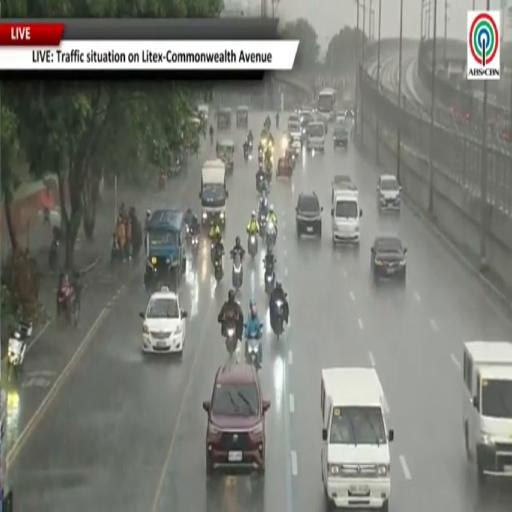bus: (317, 89, 336, 121)
car: (203, 364, 270, 474), (140, 287, 187, 355), (371, 234, 407, 282), (296, 192, 323, 237), (377, 174, 401, 211), (333, 120, 348, 150), (333, 174, 354, 185)
motorcycle: (7, 322, 32, 380), (245, 324, 263, 371), (57, 290, 78, 328), (226, 318, 238, 358), (274, 299, 284, 339), (111, 233, 124, 263), (233, 252, 242, 291), (49, 237, 59, 270), (265, 263, 275, 294), (187, 227, 199, 251), (266, 222, 276, 249), (248, 234, 257, 259), (214, 256, 223, 281), (256, 173, 266, 194), (259, 212, 266, 236), (265, 158, 272, 181), (244, 144, 250, 163), (159, 173, 166, 189), (210, 240, 215, 262), (258, 150, 263, 167), (248, 139, 253, 153), (210, 132, 213, 146)
truck: (321, 367, 393, 511), (463, 342, 511, 485), (200, 159, 228, 225)
